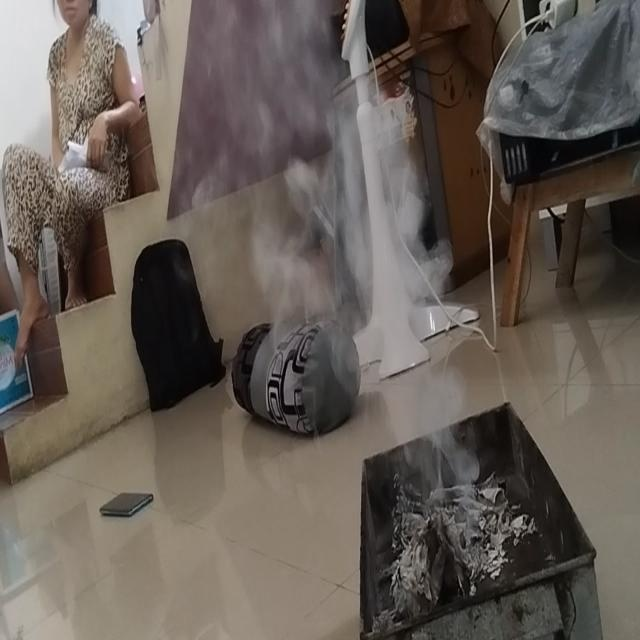smoke: (238, 12, 420, 299), (367, 314, 508, 580)
